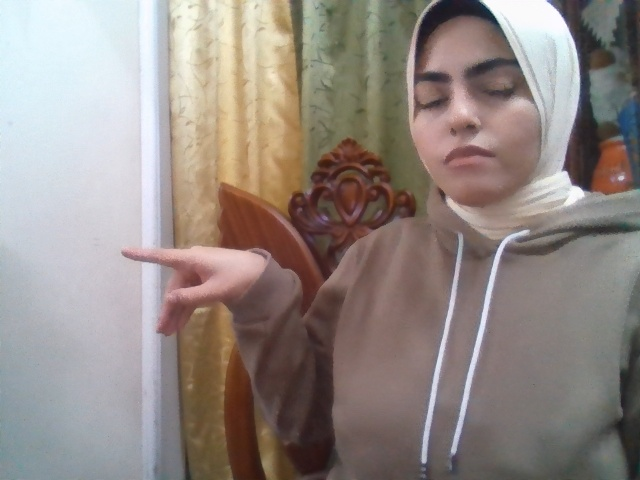P: (121, 246, 264, 335)
